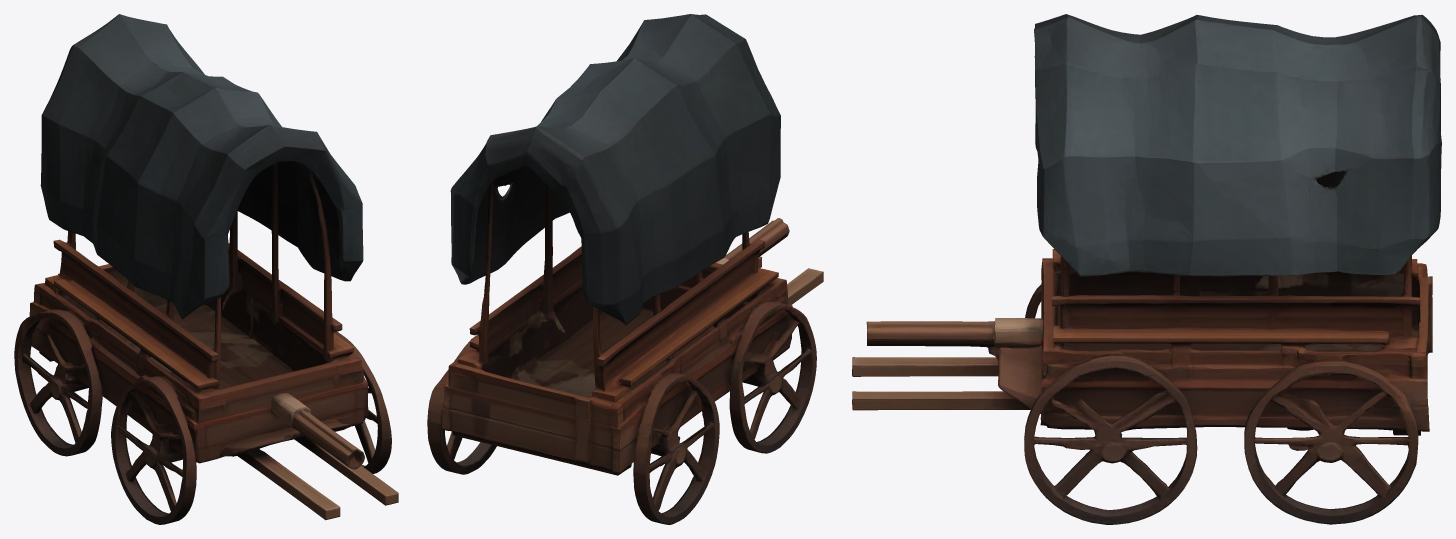
Rendered from voxhammer_t03.glb.
The picture shows the model from 3 angles, left to right: view 1: azimuth 30°, elevation 25°; view 2: azimuth 150°, elevation 25°; view 3: azimuth 270°, elevation 25°; orthographic projection. The views are drawn at different scales.
Parts seen in each view (by area): view 1: geometry_0; view 2: geometry_0; view 3: geometry_0.
Boxes of the visible parts, bbox=[...] form: geometry_0: bbox=[14, 14, 398, 524]; geometry_0: bbox=[427, 14, 823, 524]; geometry_0: bbox=[852, 14, 1441, 524].
Size of the model in its own units: 0.9666 by 1.67 by 1.99.
Materials: 1 (1 with a texture image).
